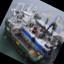fishing boat: (0, 3, 58, 64), (7, 0, 64, 61)
